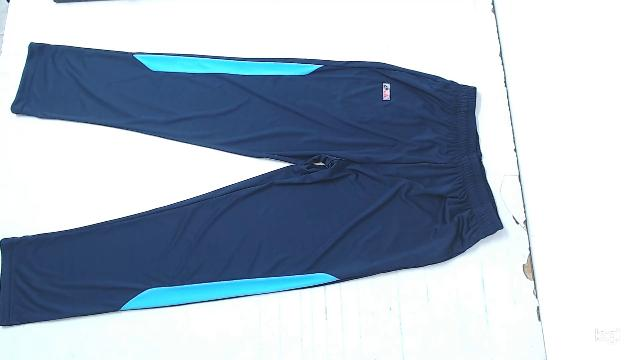new-garment: (0, 43, 502, 325)
